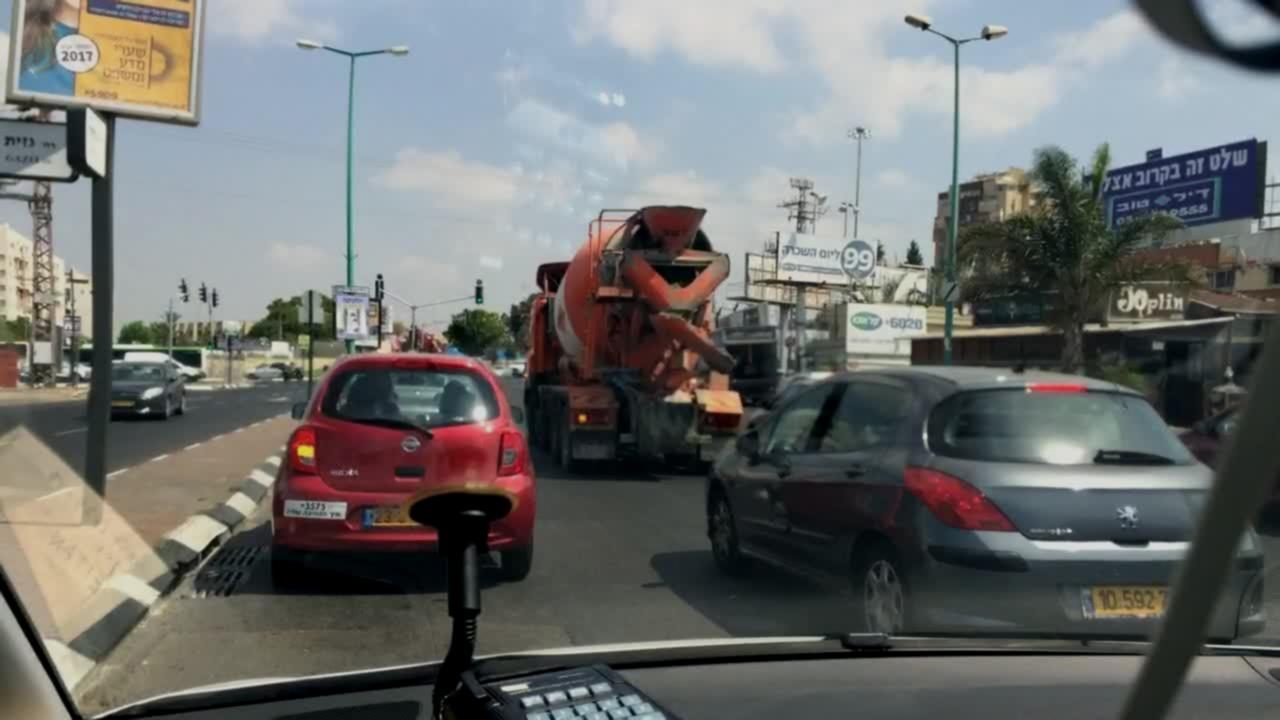Nissan: (399, 434, 422, 458)
